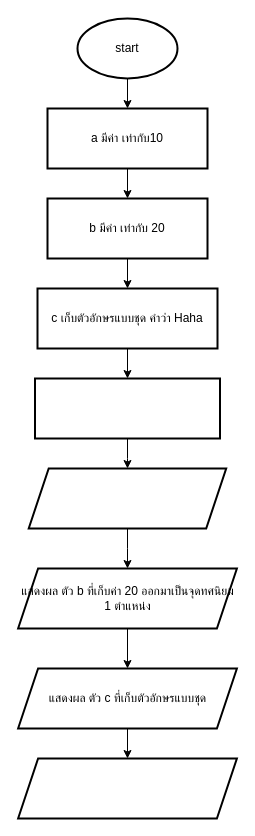
This 255x836 diagram has some shape labels left out. The shapes that lost their labels are listed below. From the top down, each one's box as (x1, y1, x2, y2) in pixels, then its label:
(34, 377, 220, 439): d เก็บตัวอักษร1ตัว คำว่า a
(27, 467, 227, 529): แสดงผล ตัว a ที่เก็บค่า 10 ออกมา
(17, 757, 237, 819): แสดงผล ตัว d ที่เก็บตัวอักษร 1 ตัว
